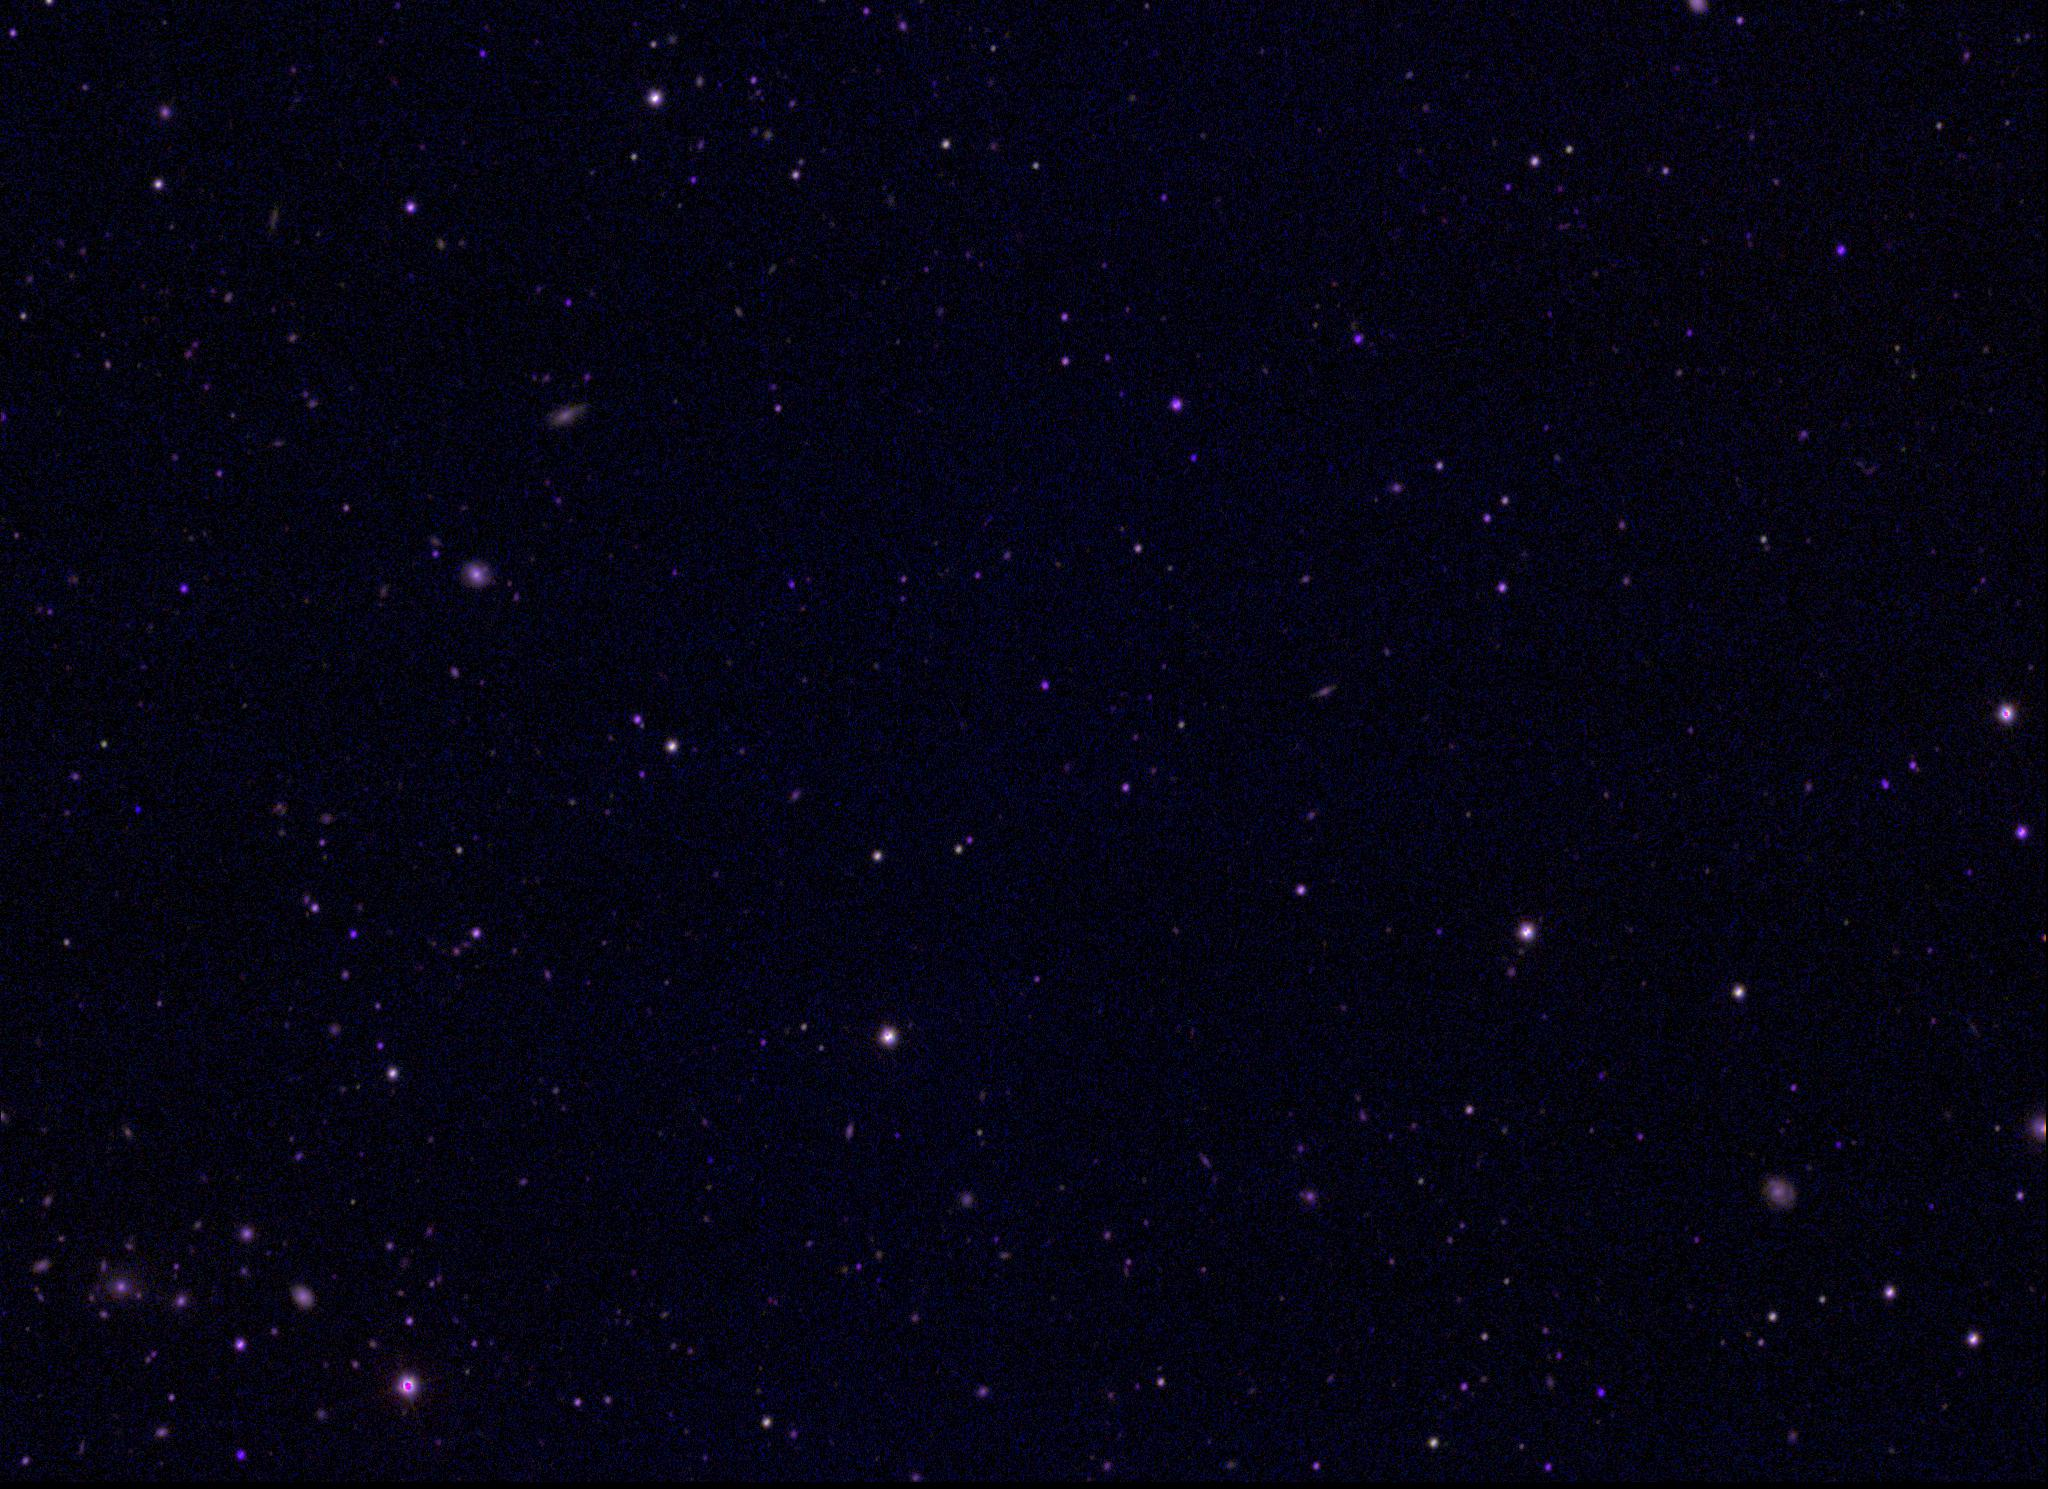L: (132, 802, 146, 816)
